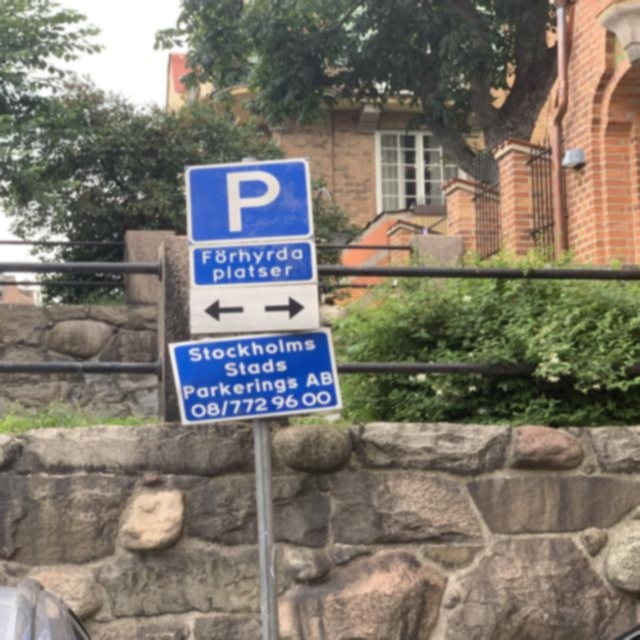P-skylt: (183, 155, 316, 248)
